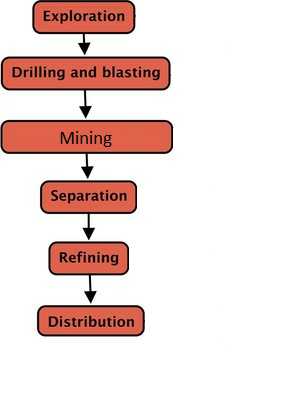arrow: (74, 87, 95, 117), (75, 29, 94, 57), (81, 271, 97, 304), (80, 210, 97, 240), (78, 150, 95, 177)
process: (0, 118, 174, 156), (1, 55, 173, 92), (34, 303, 147, 337), (37, 178, 140, 215), (29, 1, 137, 36), (46, 239, 131, 276)
text: (8, 63, 161, 81), (40, 7, 126, 24), (46, 311, 136, 327), (47, 186, 127, 203), (57, 129, 113, 148), (58, 250, 120, 267)
